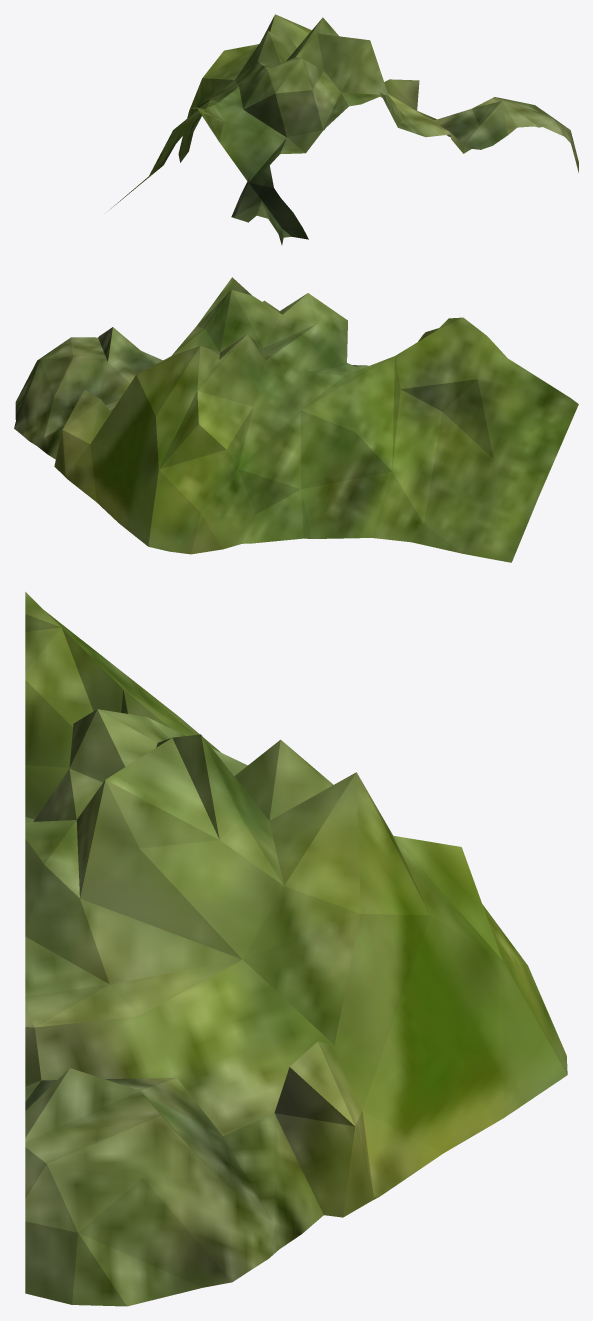
3 renders of one model, top to bottom at view 1: azimuth 30°, elevation 25°; view 2: azimuth 150°, elevation 25°; view 3: azimuth 270°, elevation 25°, orthographic. The views are drawn at different scales.
Size of the model in its own units: 10.02 by 3.28 by 4.58.
1 material, 1 textured.
